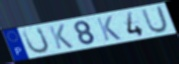4: (127, 11, 145, 38)
8: (74, 20, 97, 46)
K: (47, 23, 75, 51), (95, 15, 123, 42)
U: (140, 5, 170, 35), (21, 26, 51, 55)
